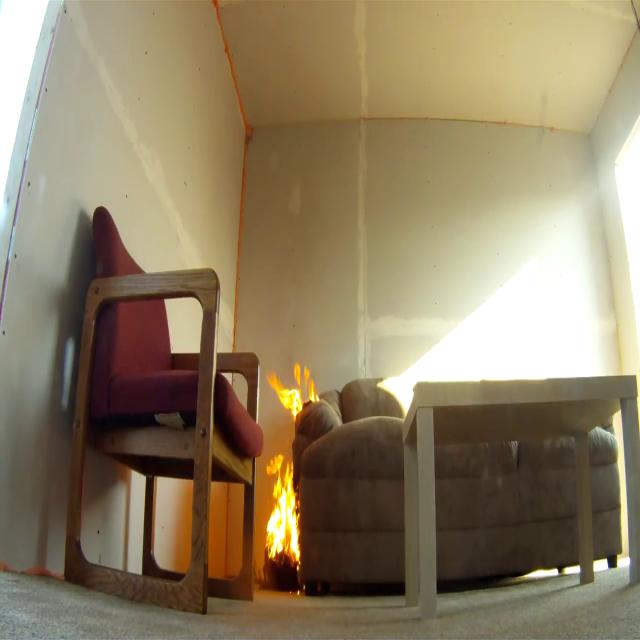fire: (262, 447, 303, 578), (264, 363, 320, 422)
